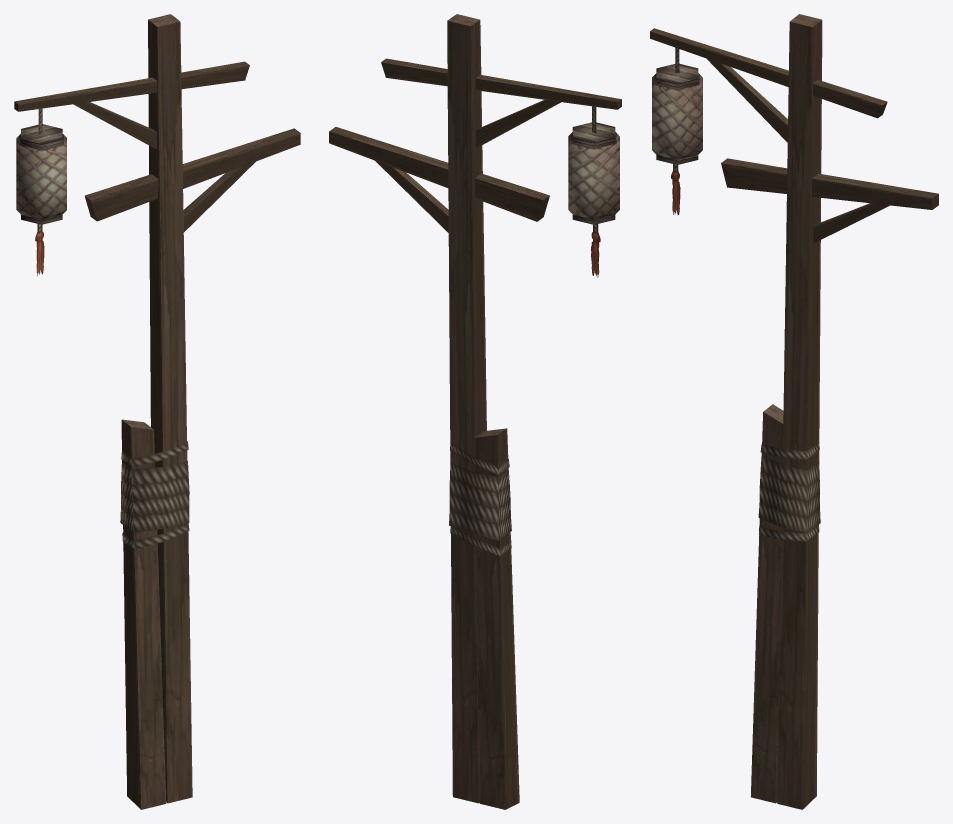
Rendered from fld_mujia06_jgc.FBX.
3 renders of one model, left to right at view 1: azimuth 30°, elevation 25°; view 2: azimuth 150°, elevation 25°; view 3: azimuth 330°, elevation 25°, orthographic. The views are drawn at different scales.
Visible parts, largest first — view 1: fld_mujia06_jgc; view 2: fld_mujia06_jgc; view 3: fld_mujia06_jgc.
Part boxes in pixels (<box>): fld_mujia06_jgc: <box>14,14,300,809</box>; fld_mujia06_jgc: <box>329,14,621,809</box>; fld_mujia06_jgc: <box>650,14,938,809</box>.
Bounding box in the file's own units: 12.17 × 31.77 × 1.95.
